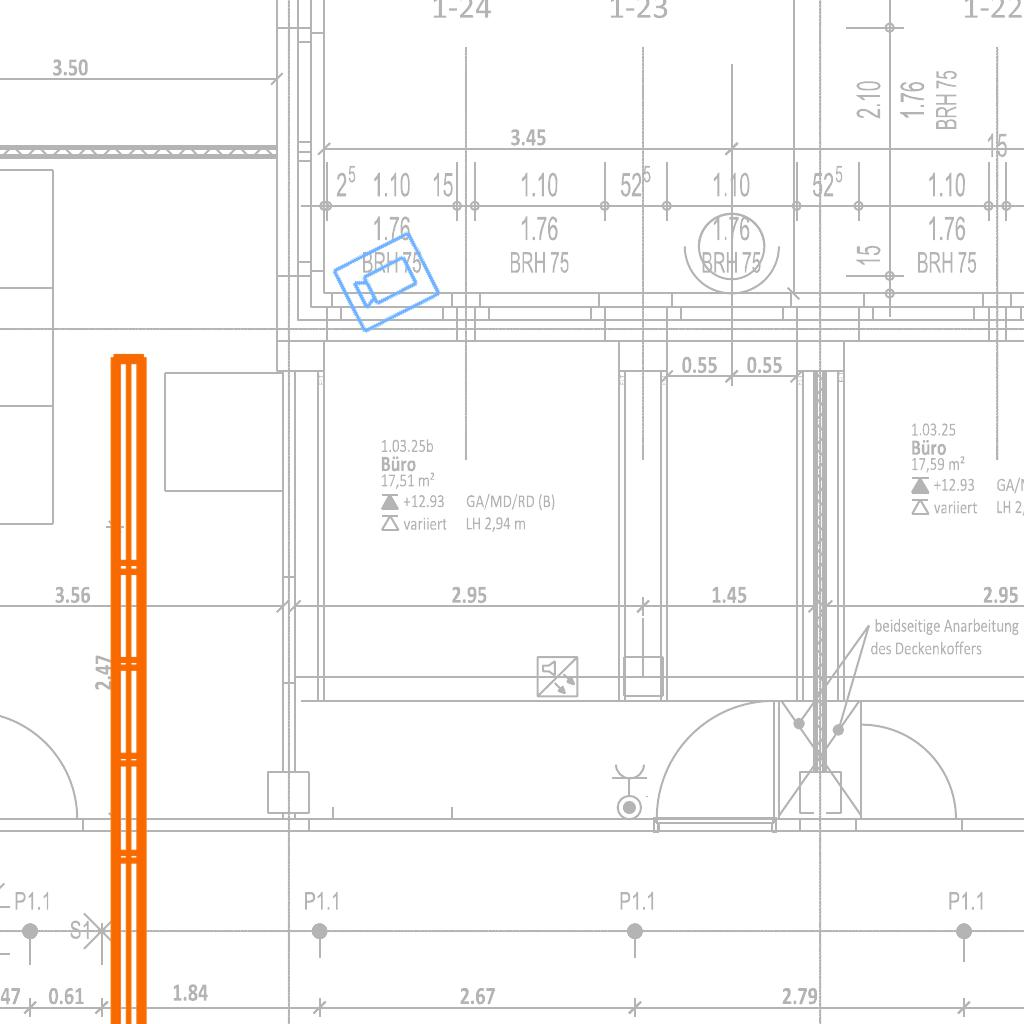Ambulanz_Pendelleuchte_LED: (98, 343, 210, 1024)
KFO_Kamera_mit_Festobjektiv: (328, 226, 445, 337)
